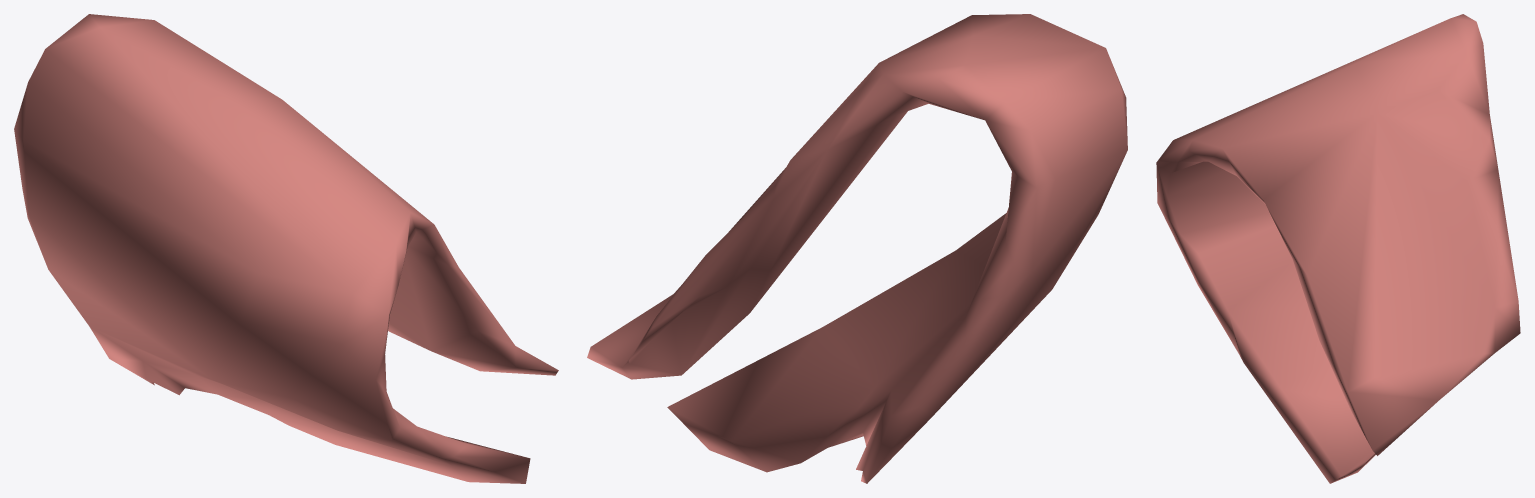
The picture shows the model from 3 angles, left to right: view 1: azimuth 30°, elevation 25°; view 2: azimuth 150°, elevation 25°; view 3: azimuth 270°, elevation 25°; orthographic projection. The views are drawn at different scales.
Parts seen in each view (by area): view 1: ZA_d64d3d420b6c497e; view 2: ZA_d64d3d420b6c497e; view 3: ZA_d64d3d420b6c497e.
Part boxes in pixels (x1,y1,x2,y2): ZA_d64d3d420b6c497e: (14, 14, 558, 483); ZA_d64d3d420b6c497e: (587, 14, 1127, 483); ZA_d64d3d420b6c497e: (1156, 14, 1520, 483).
Size of the model in its own units: 0.0079 by 0.00749 by 0.00712.
